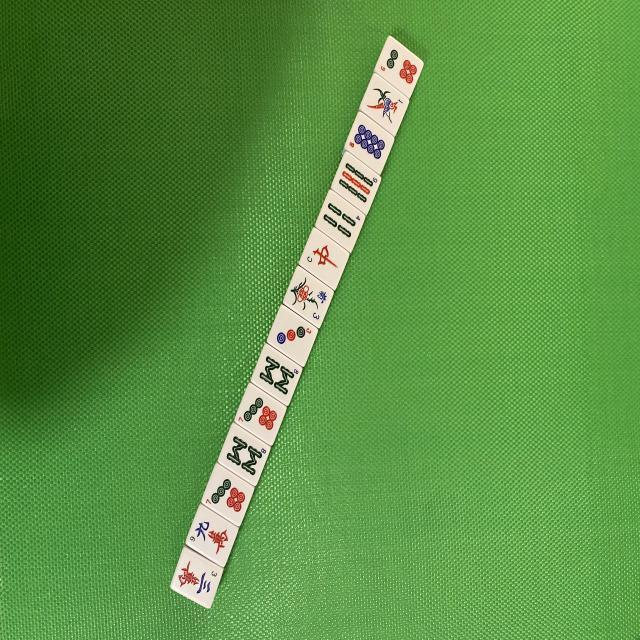bf3: (284, 264, 336, 328)
hdr: (298, 230, 351, 292)
sb1: (358, 72, 411, 136)
sb4: (316, 190, 368, 252)
sb8: (250, 343, 306, 406), (216, 425, 272, 487)
sb9: (330, 150, 382, 212)
sc3: (170, 558, 224, 606)
sc9: (188, 518, 231, 558)
sd3: (265, 304, 320, 369)
sd6: (372, 36, 424, 98)
sd7: (200, 463, 256, 528), (235, 383, 290, 446)
sd8: (343, 110, 395, 174)
